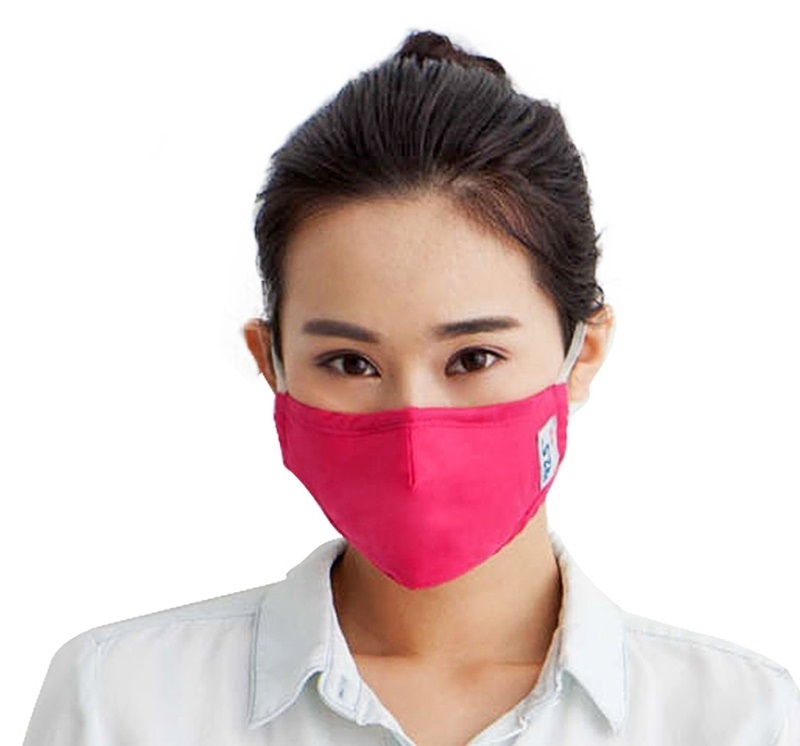face_mask: (274, 197, 568, 578)
